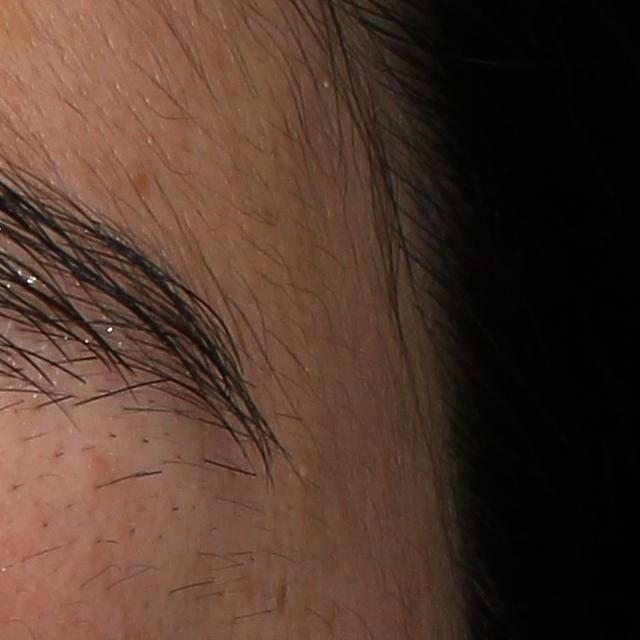melasma: (273, 581, 289, 614)
